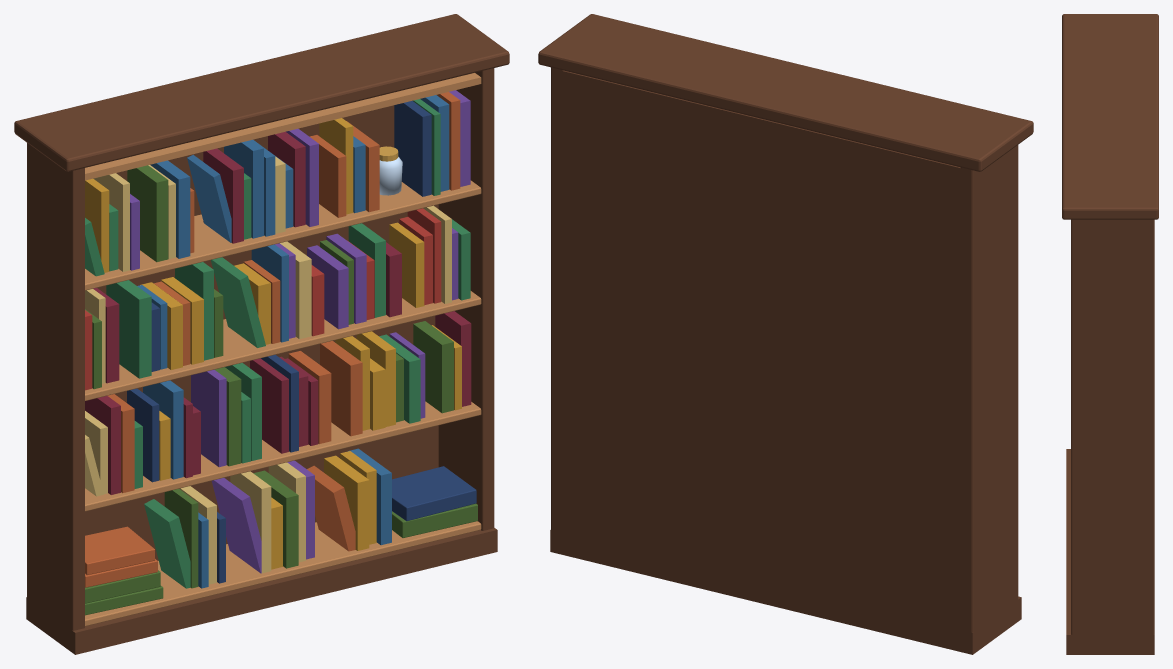
Rendered from shelf.glb.
3 renders of one model, left to right at view 1: azimuth 30°, elevation 25°; view 2: azimuth 150°, elevation 25°; view 3: azimuth 270°, elevation 25°, orthographic. The views are drawn at different scales.
Parts seen in each view (by area): view 1: Shelf; view 2: Shelf; view 3: Shelf.
Boxes of the visible parts, x1,y1,x2,y2 form: Shelf: [14, 14, 509, 654]; Shelf: [538, 14, 1033, 654]; Shelf: [1062, 14, 1158, 654].
Bounding box in the file's own units: 2.1 × 2.26 × 0.44.
